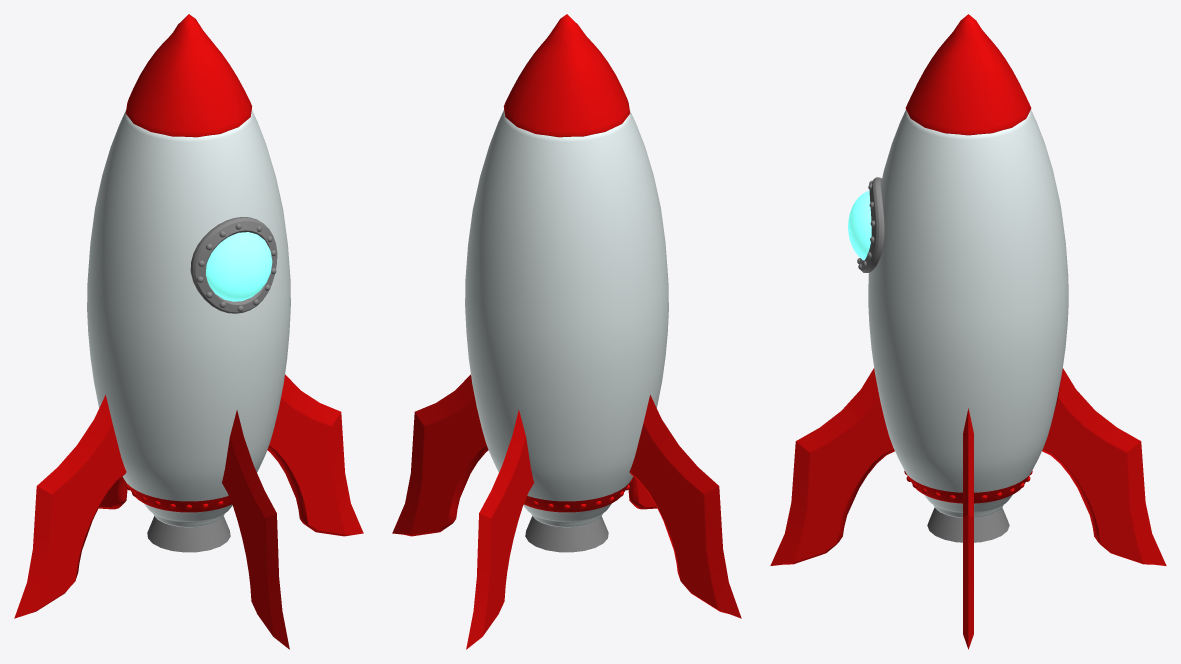
File: spaceship.glb
3 renders of one model, left to right at view 1: azimuth 30°, elevation 25°; view 2: azimuth 150°, elevation 25°; view 3: azimuth 270°, elevation 25°, orthographic.
Visible parts, largest first — view 1: Object_2, Object_5, Object_4, Object_3; view 2: Object_2, Object_5, Object_4; view 3: Object_2, Object_5, Object_4, Object_3.
Boxes of the visible parts, <box> form: Object_2: <box>87,109,290,527</box>; Object_5: <box>14,14,363,649</box>; Object_4: <box>147,217,277,552</box>; Object_3: <box>206,232,272,301</box>; Object_2: <box>465,109,668,527</box>; Object_5: <box>392,14,741,649</box>; Object_4: <box>525,516,608,552</box>; Object_2: <box>868,110,1068,517</box>; Object_5: <box>770,14,1166,649</box>; Object_4: <box>857,177,1009,542</box>; Object_3: <box>848,190,871,260</box>.
Bounding box in the file's own units: 12.26 × 18.83 × 12.26.
